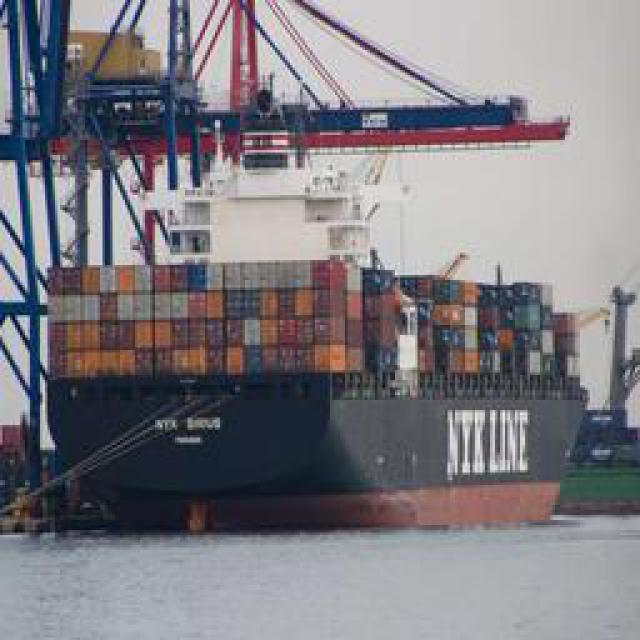Ship: (34, 49, 629, 548)
